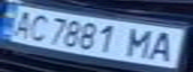1: (96, 22, 121, 55)
7: (42, 15, 69, 47)
8: (60, 17, 84, 50), (78, 20, 100, 52)
A: (142, 29, 190, 63), (3, 8, 39, 39)
C: (21, 11, 54, 43)
M: (118, 26, 163, 60)
